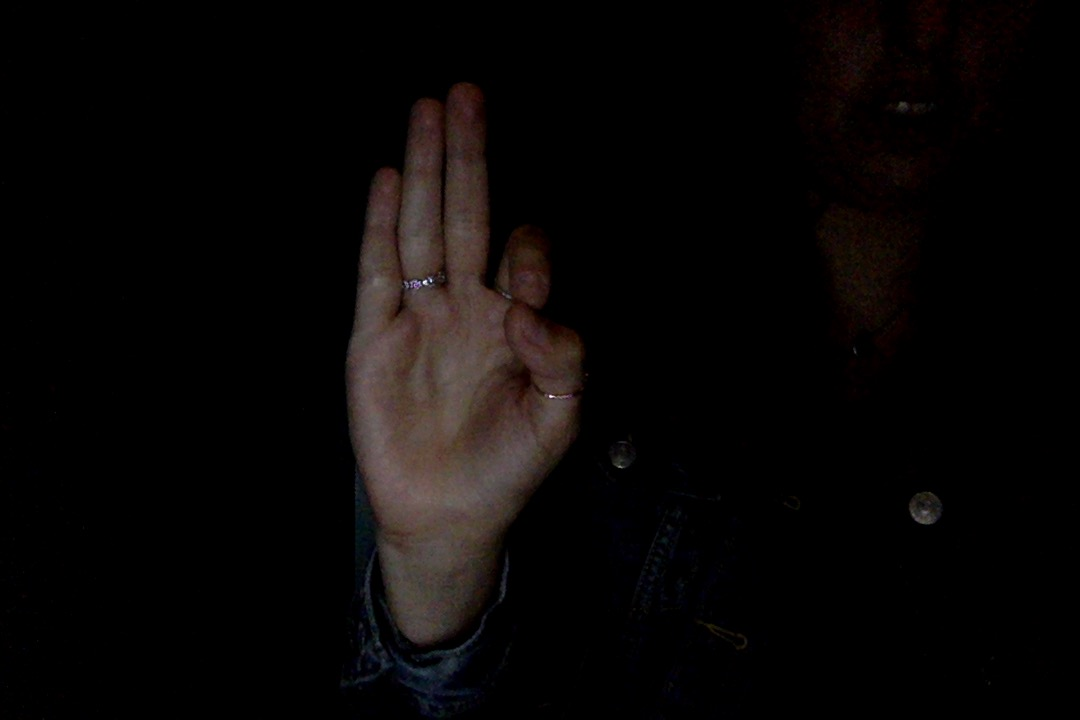f: (318, 58, 597, 609)
